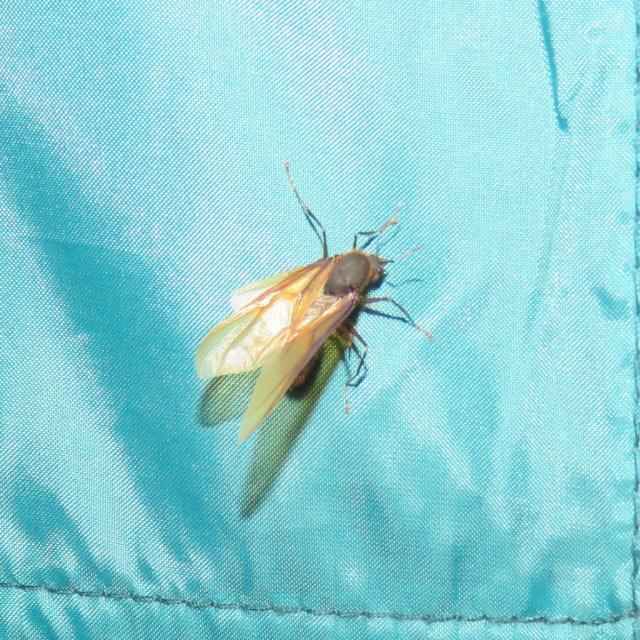Alive-Male-Alate: (194, 160, 435, 444)
